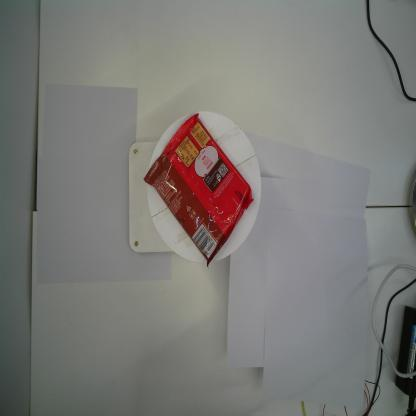Dessert: (142, 112, 254, 268)
